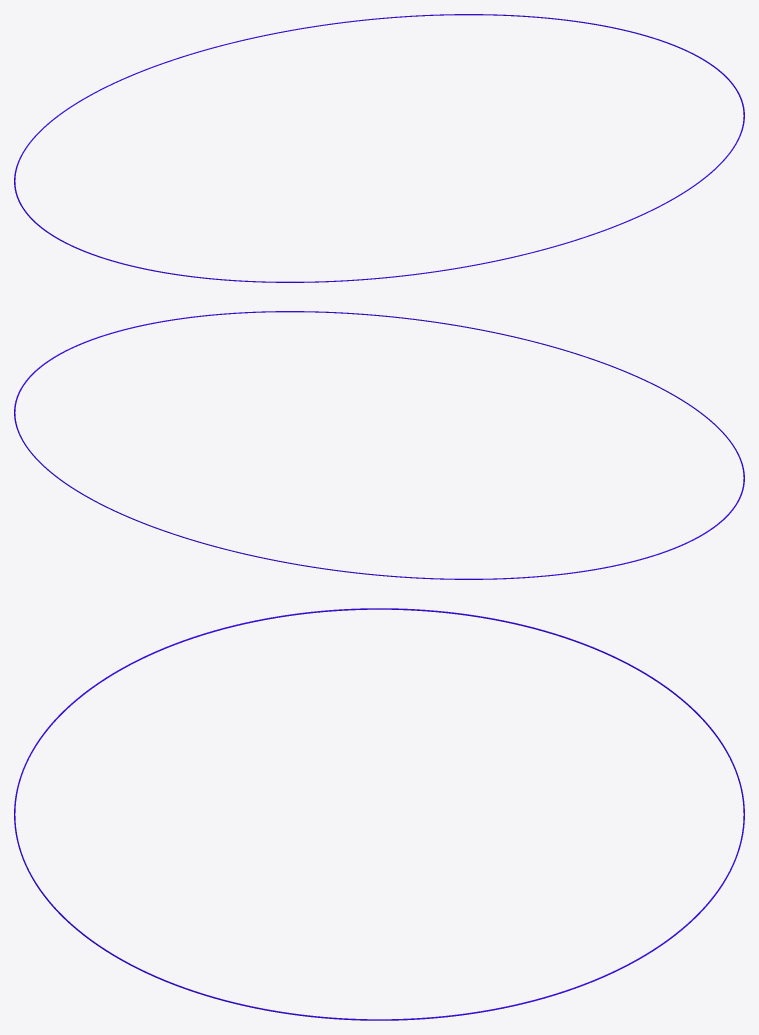
The model's file is path.glb.
3 views of the same model, one above another, from view 1: azimuth 30°, elevation 25°; view 2: azimuth 150°, elevation 25°; view 3: azimuth 270°, elevation 25° (orthographic). The views are drawn at different scales.
Parts seen in each view (by area): view 1: path(Clone); view 2: path(Clone); view 3: path(Clone).
Part boxes in pixels (<box>): path(Clone): <box>14,14,744,282</box>; path(Clone): <box>14,311,744,579</box>; path(Clone): <box>14,608,744,1020</box>.
Size of the model in its own units: 80.16 by 0.12 by 60.12.
